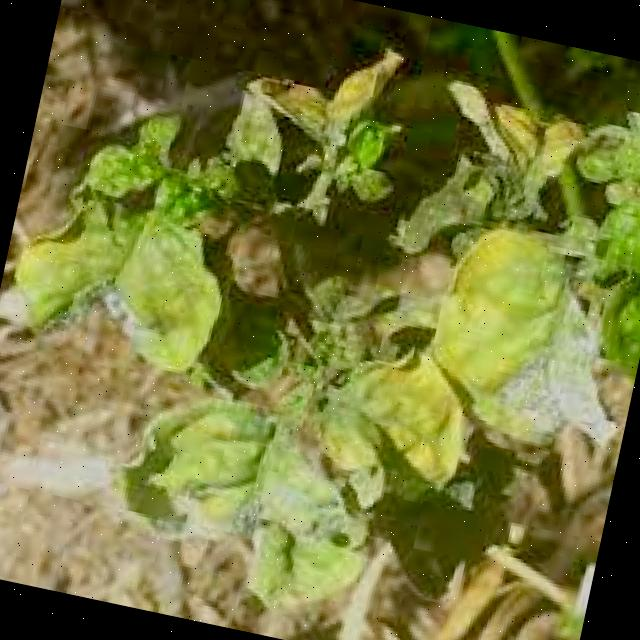whitefly: (486, 316, 631, 460)
